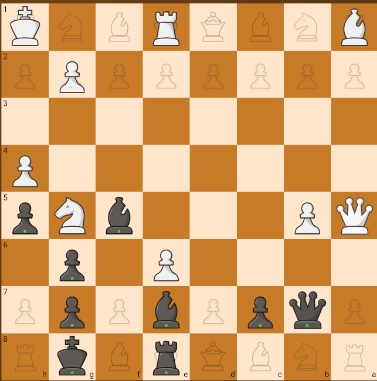bb: (99, 195, 142, 236), (147, 288, 186, 330)
bk: (52, 336, 92, 381)
bp: (4, 195, 45, 236), (240, 293, 282, 331), (52, 244, 90, 284), (55, 291, 91, 331)
bq: (286, 287, 329, 332)
br: (147, 339, 186, 381)
wb: (337, 8, 373, 48)
wk: (3, 7, 47, 47)
wn: (52, 194, 90, 235)
wp: (3, 150, 44, 190), (287, 199, 330, 237), (51, 59, 92, 94), (147, 247, 187, 282)
wq: (337, 197, 374, 235)
wr: (144, 7, 188, 48)
